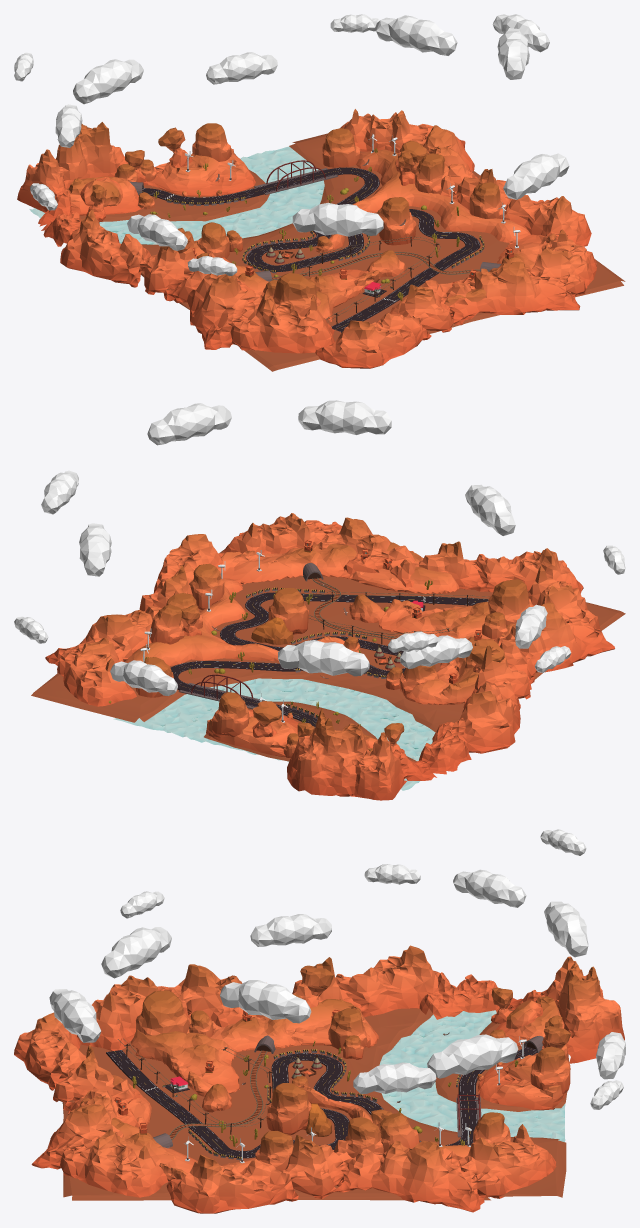
File: track-draco.glb
3 renders of one model, top to bottom at view 1: azimuth 30°, elevation 25°; view 2: azimuth 150°, elevation 25°; view 3: azimuth 270°, elevation 25°, orthographic. The views are drawn at different scales.
Visible parts, largest first — view 1: mountains, terrain, track, water, cloud.012, cloud.006, cloud.011, cloud.007, cloud.001, cloud.002, cloud, cloud.009 (+4 smaller); view 2: mountains, terrain, track, water, cloud.007, cloud.011, cloud, cloud.012, cloud.001, cloud.008, cloud.006, cloud.009 (+4 smaller); view 3: mountains, terrain, track, water, cloud, cloud.006, cloud.012, cloud.009, cloud.002, cloud.007, cloud.008, cloud.011 (+5 smaller).
Part boxes in pixels (<box>): mountains: <box>17,109,596,368</box>; terrain: <box>80,133,625,371</box>; track: <box>129,134,520,332</box>; water: <box>29,146,324,244</box>; cloud.012: <box>292,202,383,236</box>; cloud.006: <box>375,15,457,55</box>; cloud.011: <box>73,59,143,104</box>; cloud.007: <box>503,153,569,199</box>; cloud.001: <box>206,52,277,84</box>; cloud.002: <box>127,214,187,250</box>; cloud: <box>497,28,529,79</box>; cloud.009: <box>492,14,549,52</box>; mountains: <box>45,513,614,800</box>; terrain: <box>31,525,625,761</box>; track: <box>108,540,489,727</box>; water: <box>114,678,435,790</box>; cloud.007: <box>298,400,391,434</box>; cloud.011: <box>278,640,369,676</box>; cloud: <box>147,403,231,445</box>; cloud.012: <box>465,484,515,535</box>; cloud.001: <box>110,660,177,695</box>; cloud.008: <box>400,635,472,668</box>; cloud.006: <box>79,523,111,576</box>; cloud.009: <box>41,470,78,514</box>; mountains: <box>14,945,624,1213</box>; terrain: <box>62,1008,569,1200</box>; track: <box>106,1009,543,1163</box>; water: <box>379,1010,565,1141</box>; cloud: <box>220,980,311,1023</box>; cloud.006: <box>427,1034,518,1078</box>; cloud.012: <box>101,927,171,978</box>; cloud.009: <box>353,1062,436,1094</box>; cloud.002: <box>250,914,331,946</box>; cloud.007: <box>49,989,101,1042</box>; cloud.008: <box>453,869,526,907</box>; cloud.011: <box>544,901,588,957</box>.
Bounding box in the file's own units: 25.41 × 9.26 × 24.65.
Materials: 11 (2 with a texture image).
